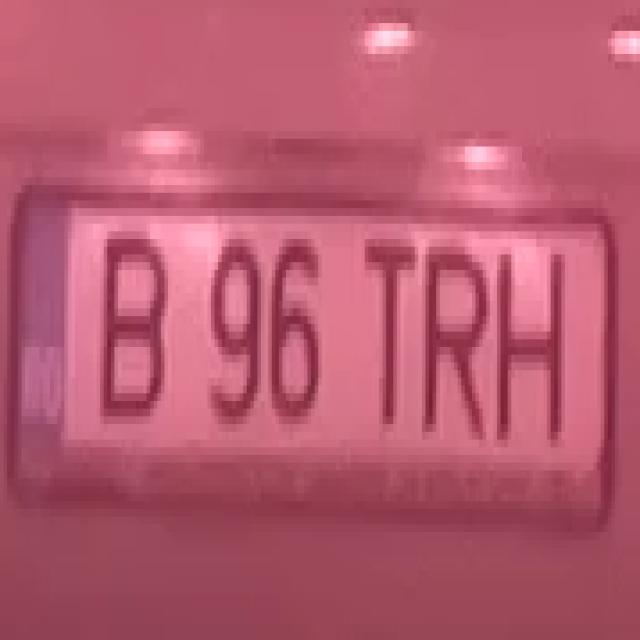EU: (10, 172, 609, 520)
Romanie: (15, 192, 66, 468)
